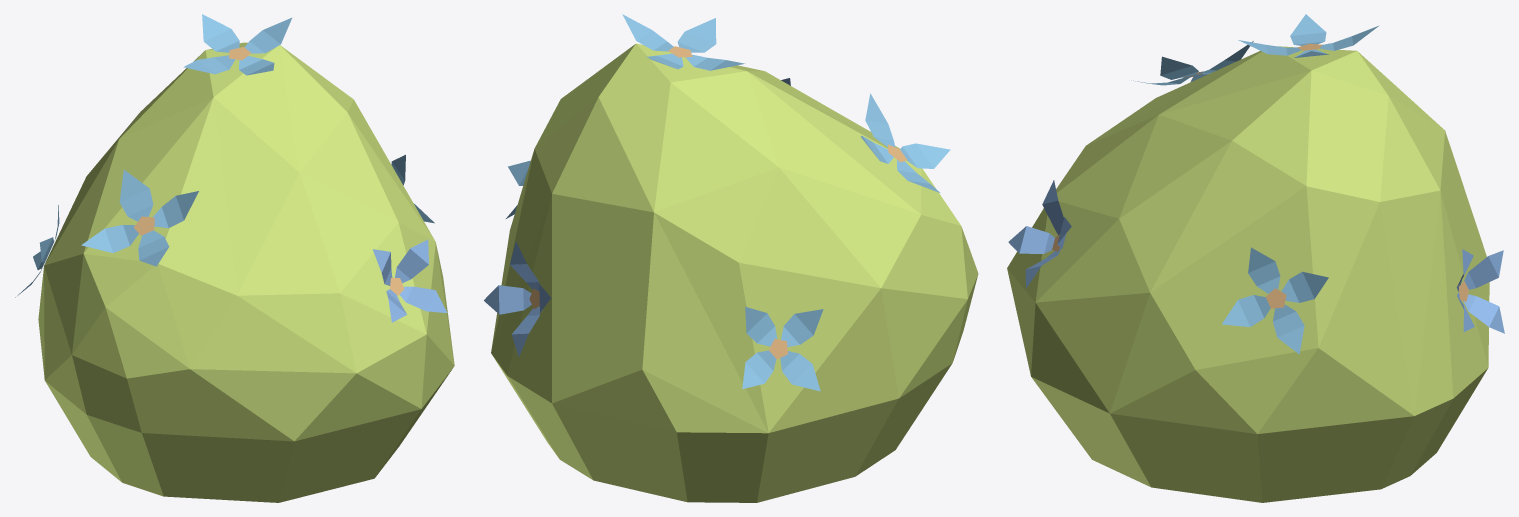
File: FlowerBush_b_l_05.fbx
The picture shows the model from 3 angles, left to right: view 1: azimuth 30°, elevation 25°; view 2: azimuth 150°, elevation 25°; view 3: azimuth 270°, elevation 25°; orthographic projection. The views are drawn at different scales.
Parts seen in each view (by area): view 1: FlowerBush_b_l_05; view 2: FlowerBush_b_l_05; view 3: FlowerBush_b_l_05.
Part boxes in pixels (box(x1,y1,x2,y2)): FlowerBush_b_l_05: box(15, 14, 454, 502); FlowerBush_b_l_05: box(484, 14, 978, 502); FlowerBush_b_l_05: box(1007, 14, 1504, 502).
Size of the model in its own units: 2.39 by 2.28 by 2.45.
